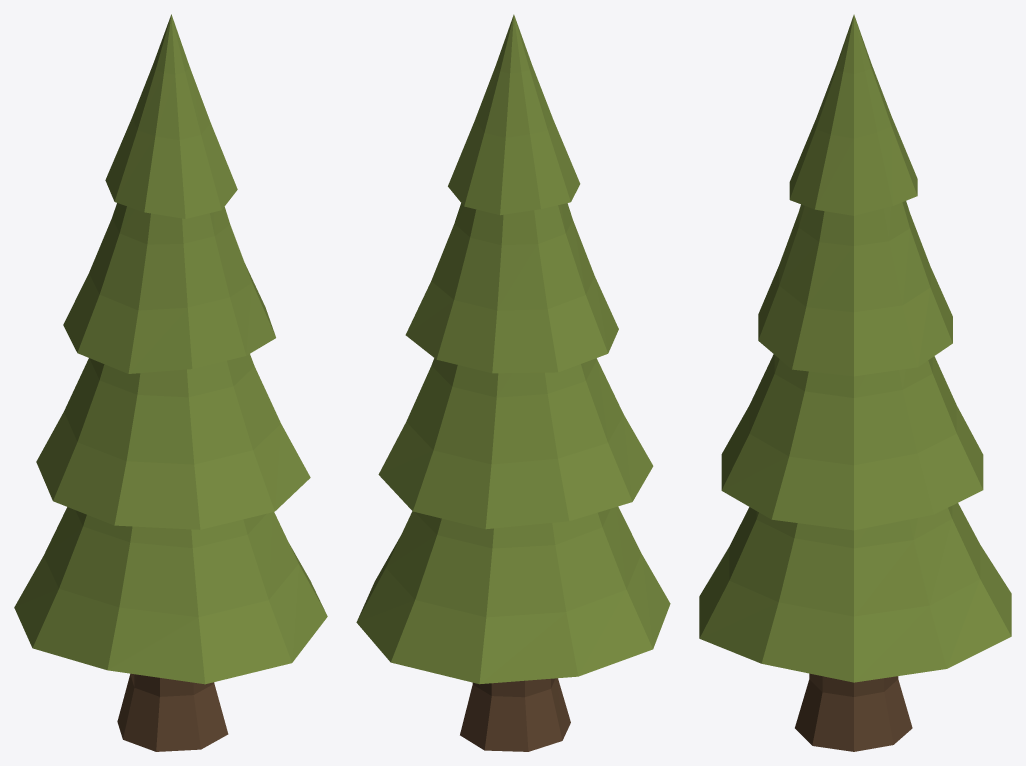
Rendered from tall-pine-tree-loch.glb.
3 views of the same model, side by side, from view 1: azimuth 30°, elevation 25°; view 2: azimuth 150°, elevation 25°; view 3: azimuth 270°, elevation 25° (orthographic).
Parts seen in each view (by area): view 1: pine; view 2: pine; view 3: pine.
Boxes of the visible parts, x1=… form: pine: x1=14, y1=14, x2=327, y2=751; pine: x1=356, y1=14, x2=670, y2=751; pine: x1=699, y1=14, x2=1011, y2=751.
Size of the model in its own units: 3.67 by 9 by 3.56.
